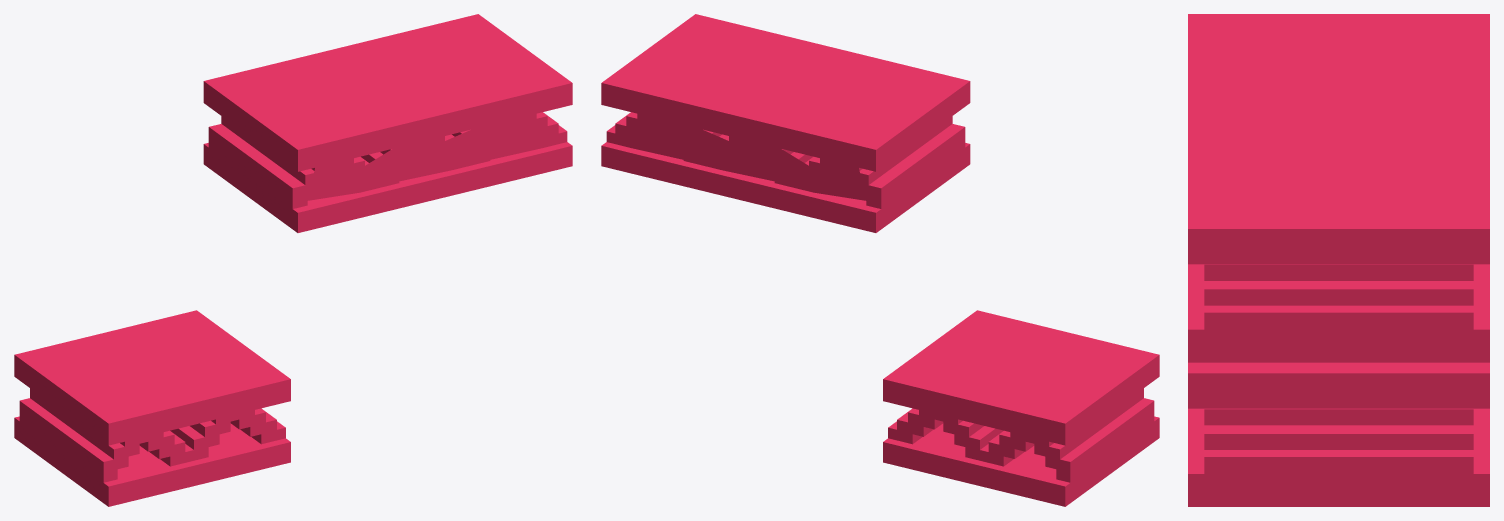
The model's file is DkPlatforms.fbx.
3 renders of one model, left to right at view 1: azimuth 30°, elevation 25°; view 2: azimuth 150°, elevation 25°; view 3: azimuth 270°, elevation 25°, orthographic. The views are drawn at different scales.
Visible parts, largest first — view 1: Plane, Plane.001; view 2: Plane, Plane.001; view 3: Plane, Plane.001.
Boxes of the visible parts, x1,y1,x2,y2 form: Plane: (203, 14, 572, 232); Plane.001: (14, 310, 290, 506); Plane: (601, 14, 970, 232); Plane.001: (883, 310, 1159, 506); Plane: (1188, 14, 1489, 362); Plane.001: (1188, 362, 1489, 506).
Size of the model in its own units: 335 by 214 by 118.
